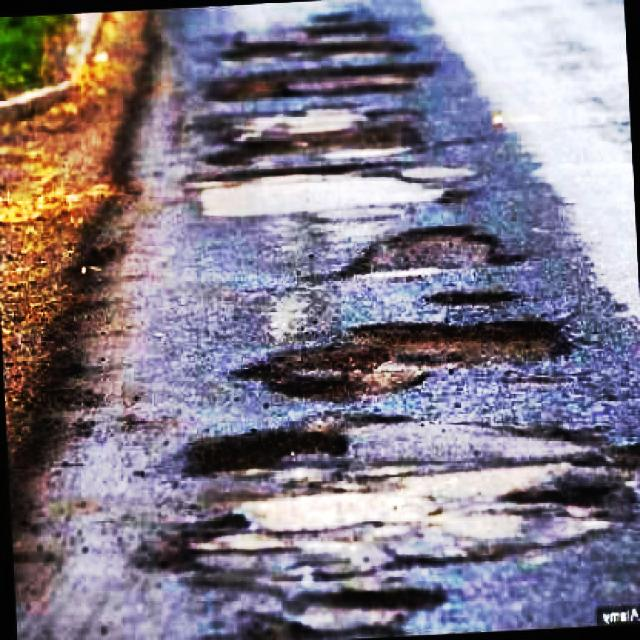pothole: (231, 315, 569, 414), (210, 120, 432, 183), (242, 577, 448, 640), (503, 437, 640, 529), (339, 220, 526, 283), (177, 422, 354, 488), (202, 62, 424, 106), (220, 20, 415, 65), (144, 506, 253, 579)
